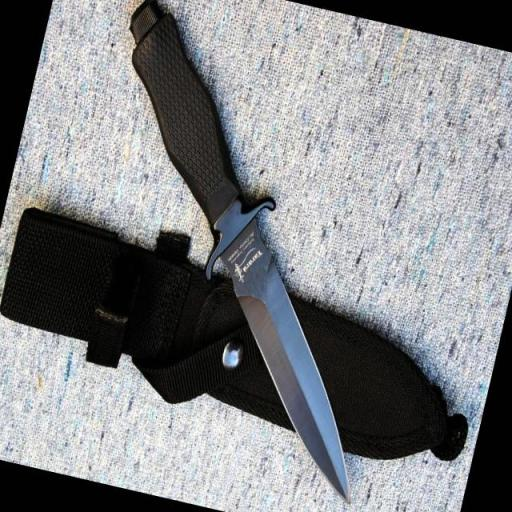knife: (186, 239, 408, 512)
